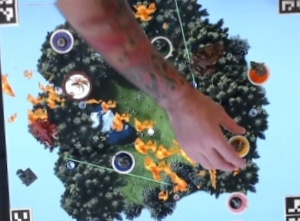blue: (107, 147, 136, 173)
green: (147, 33, 174, 61)
orange: (244, 59, 271, 87)
pink: (224, 189, 249, 215)
violet: (48, 26, 75, 53)
yellow: (227, 132, 249, 157)
